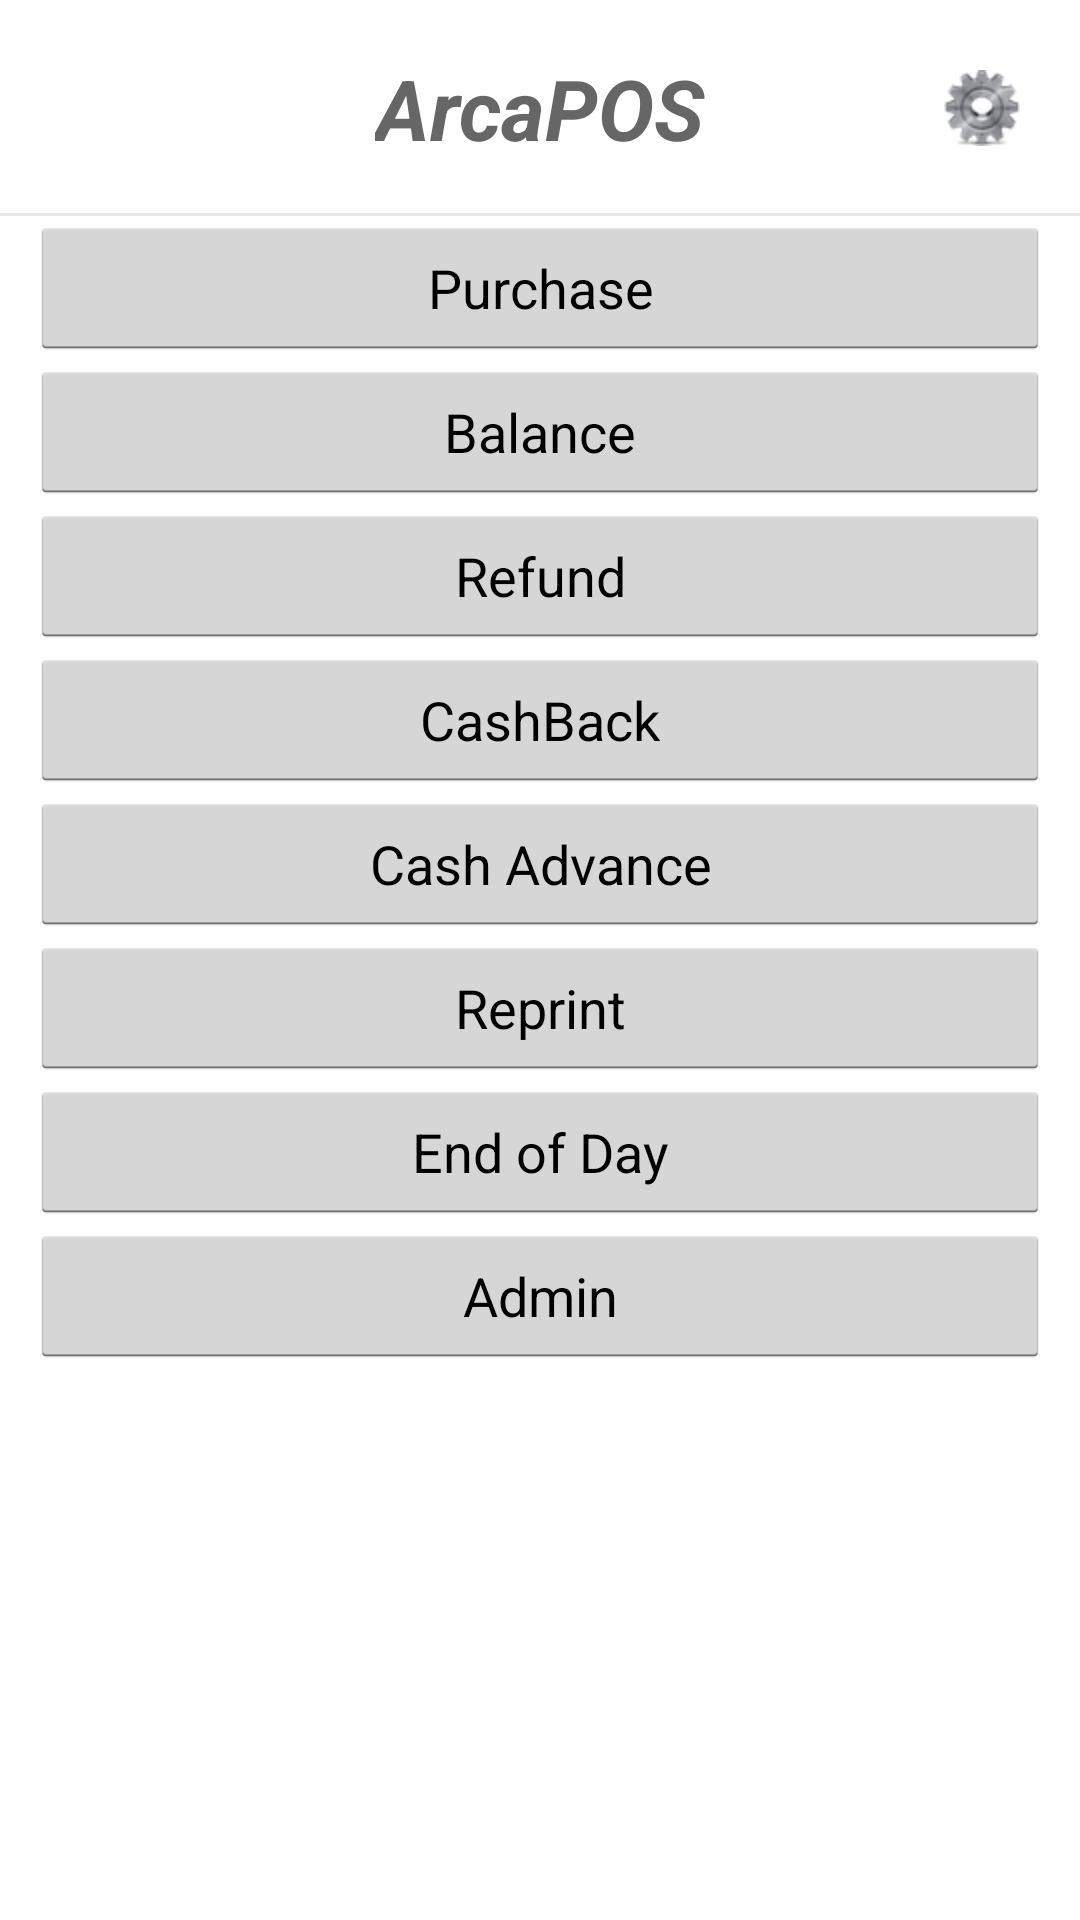

Locate icon controls on the screen. Image size 1080px x 1920px, boxes as (left=x1, top=y1, right=x2, bottom=y2).
settings: (left=944, top=70, right=1020, bottom=146)
